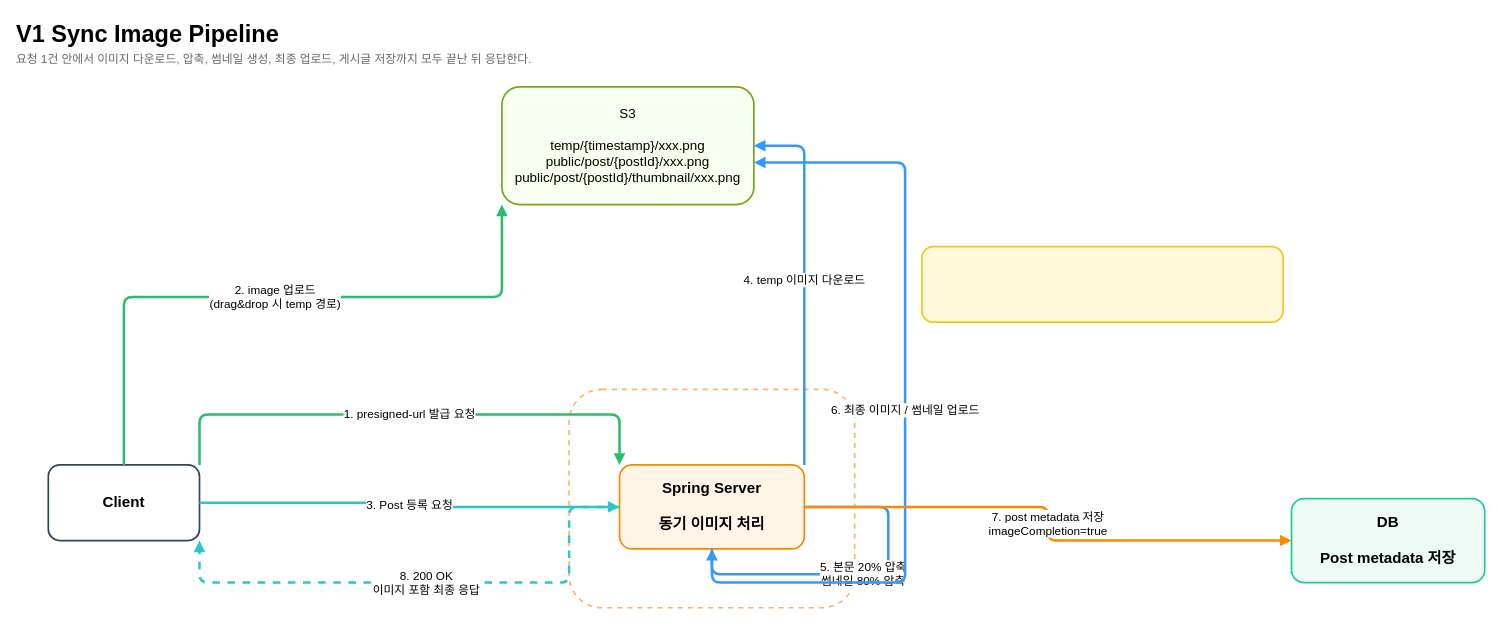
The diagram is 1499 pixels wide and 622 high, and some of its shapes have lost their labels. Each missing label, with the box of its shape:
App EC2: (568, 388, 855, 608)
핵심: `POST /api/posts` 응답 시점 자체가 이미지 처리 완료 시점이다.: (921, 245, 1284, 323)
